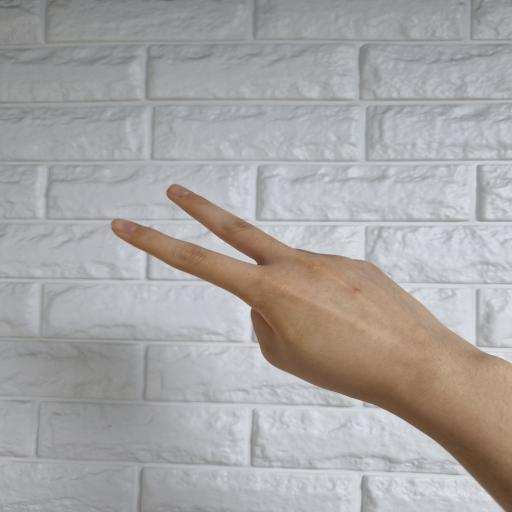Scissors: (111, 183, 512, 512)
